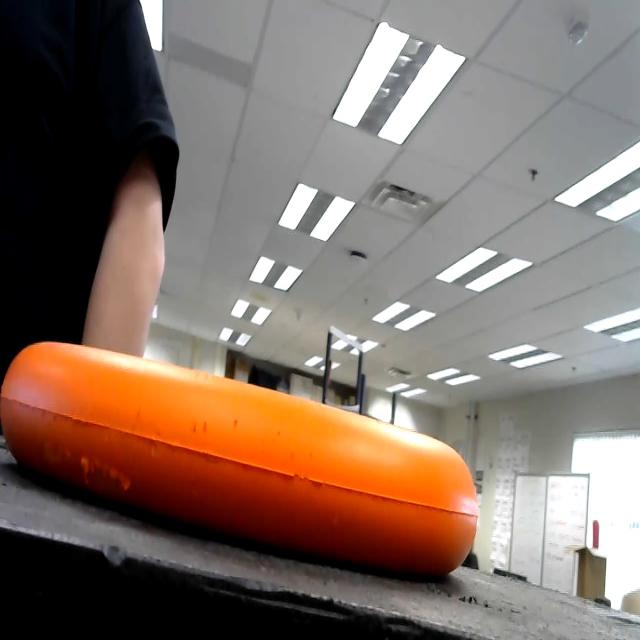note: (0, 323, 499, 602)
